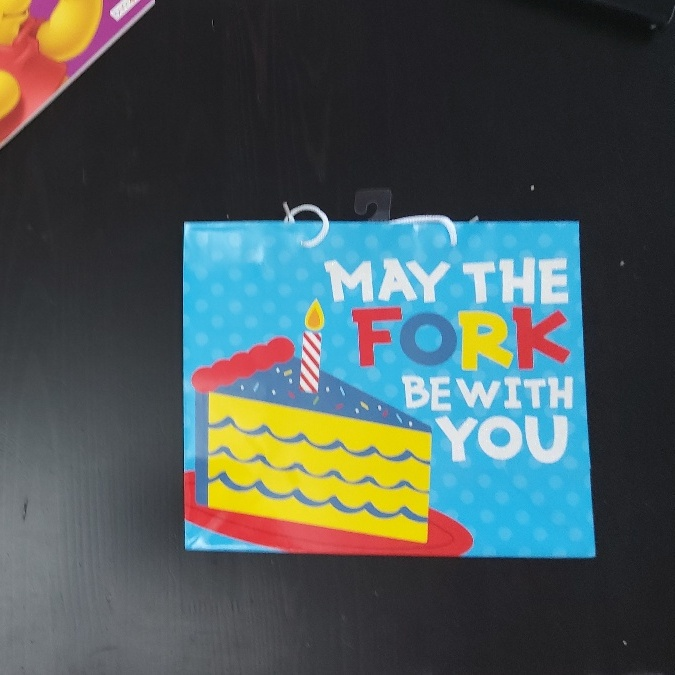paper_bag: (187, 224, 577, 553)
